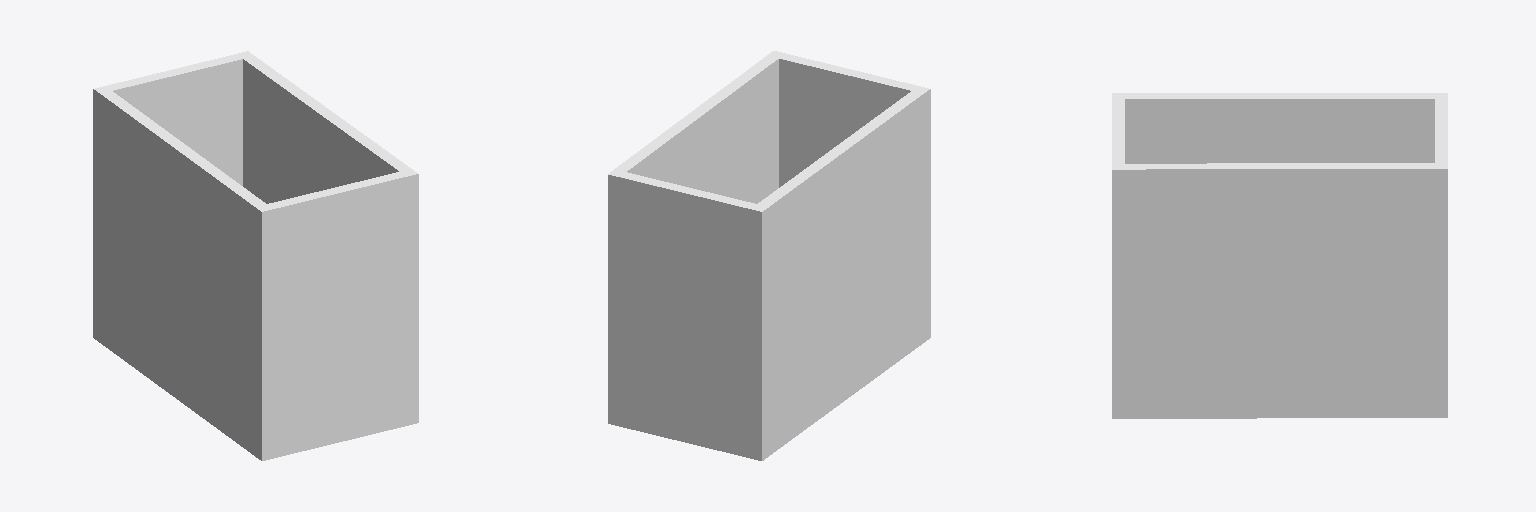
3 views of the same model, side by side, from view 1: azimuth 30°, elevation 25°; view 2: azimuth 150°, elevation 25°; view 3: azimuth 270°, elevation 25° (orthographic).
Visible parts, largest first — view 1: wall_1_4, wall_2_10, wall_3_15, wall_4_21, wall_4_22, wall_3_18, wall_1_6, wall_1_5, wall_3_17; view 2: wall_1_4, wall_4_22, wall_3_15, wall_2_9, wall_3_18, wall_1_6, wall_1_5, wall_3_17, wall_4_21; view 3: wall_3_16, wall_1_3, wall_3_18, wall_1_6, wall_1_5, wall_3_17.
Part boxes in pixels (bbox=[...]): wall_1_4: bbox=[100, 94, 261, 460]; wall_2_10: bbox=[262, 174, 418, 460]; wall_3_15: bbox=[243, 59, 398, 203]; wall_4_21: bbox=[97, 59, 242, 342]; wall_4_22: bbox=[93, 89, 96, 339]; wall_3_18: bbox=[246, 51, 417, 173]; wall_1_6: bbox=[98, 89, 263, 211]; wall_1_5: bbox=[102, 88, 266, 207]; wall_3_17: bbox=[243, 55, 408, 172]; wall_1_4: bbox=[769, 89, 930, 455]; wall_4_22: bbox=[608, 175, 765, 460]; wall_3_15: bbox=[627, 59, 778, 203]; wall_2_9: bbox=[779, 59, 910, 187]; wall_3_18: bbox=[609, 51, 775, 173]; wall_1_6: bbox=[759, 89, 929, 209]; wall_1_5: bbox=[753, 90, 919, 208]; wall_3_17: bbox=[618, 55, 778, 172]; wall_4_21: bbox=[766, 208, 768, 457]; wall_3_16: bbox=[1112, 169, 1447, 418]; wall_1_3: bbox=[1125, 99, 1434, 163]; wall_3_18: bbox=[1112, 166, 1447, 169]; wall_1_6: bbox=[1113, 93, 1434, 95]; wall_1_5: bbox=[1120, 96, 1434, 98]; wall_3_17: bbox=[1119, 163, 1440, 166].
Size of the model in its own units: 100 by 152 by 187.